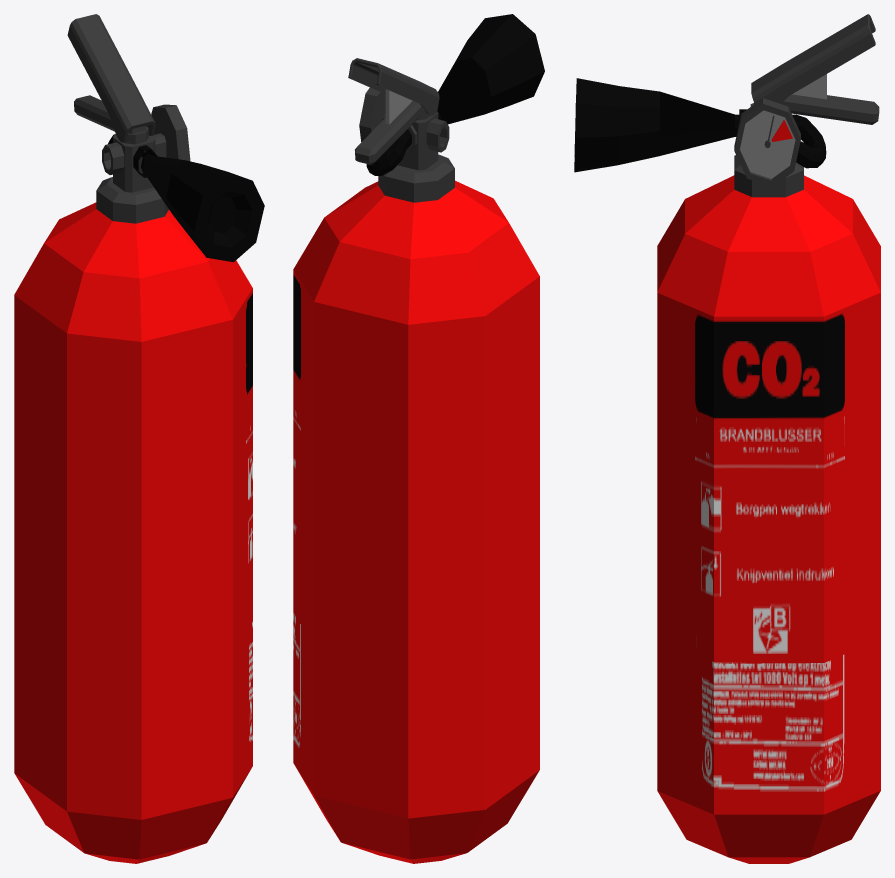
Rendered from co2blusser.fbx.
3 renders of one model, left to right at view 1: azimuth 30°, elevation 25°; view 2: azimuth 150°, elevation 25°; view 3: azimuth 270°, elevation 25°, orthographic. The views are drawn at different scales.
Parts seen in each view (by area): view 1: Cube.001; view 2: Cube.001; view 3: Cube.001.
Boxes of the visible parts, x1,y1,x2,y2 form: Cube.001: [14, 14, 264, 863]; Cube.001: [293, 14, 544, 863]; Cube.001: [574, 14, 880, 863].
Bounding box in the file's own units: 340 × 1388 × 466.
